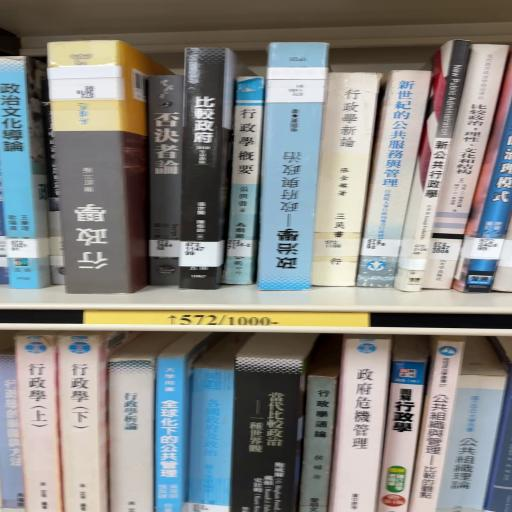book: (421, 45, 509, 290), (180, 49, 246, 291), (358, 71, 431, 288), (312, 73, 383, 288), (1, 58, 52, 290), (224, 77, 266, 286)
reverse: (49, 42, 166, 294), (258, 44, 330, 292)
